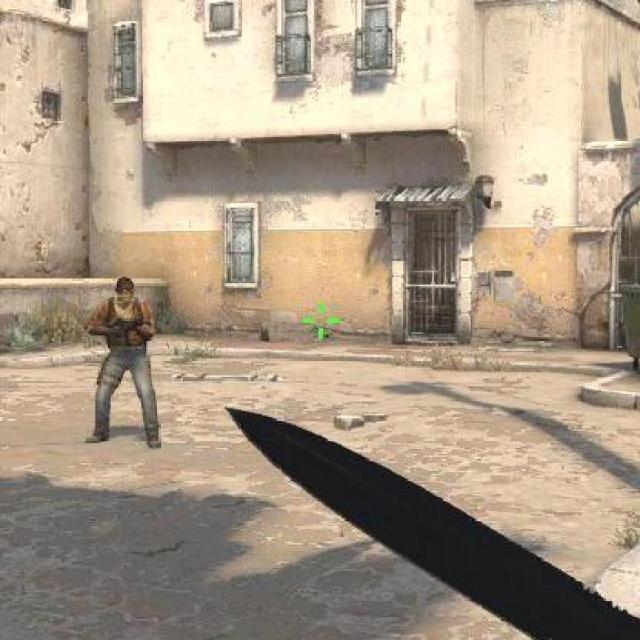Dead: (106, 275, 139, 303)
T-Body: (82, 270, 162, 448)
